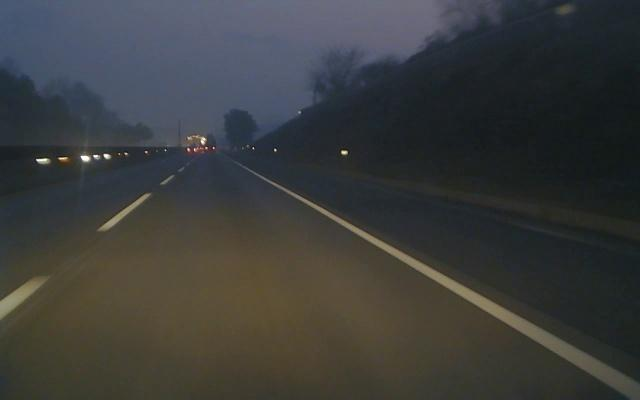lane: (256, 171, 640, 400), (0, 159, 191, 322)
